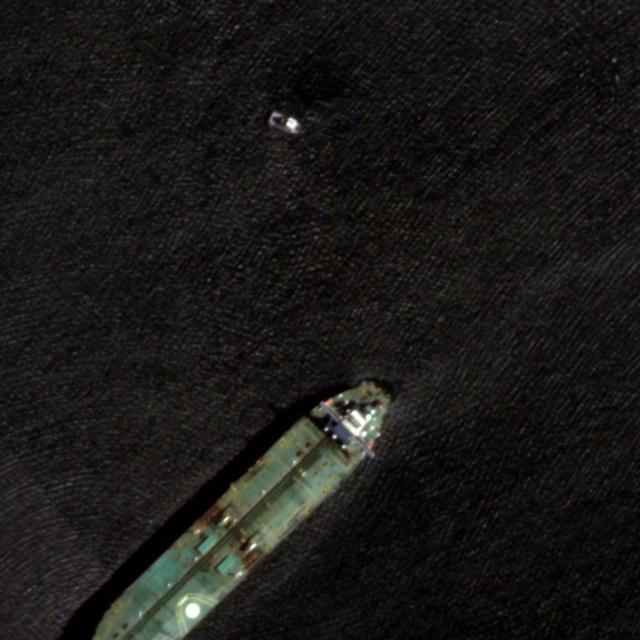boats: (90, 376, 397, 637)
